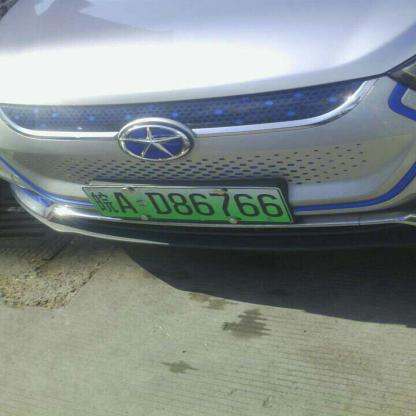lp: (82, 186, 292, 222)
